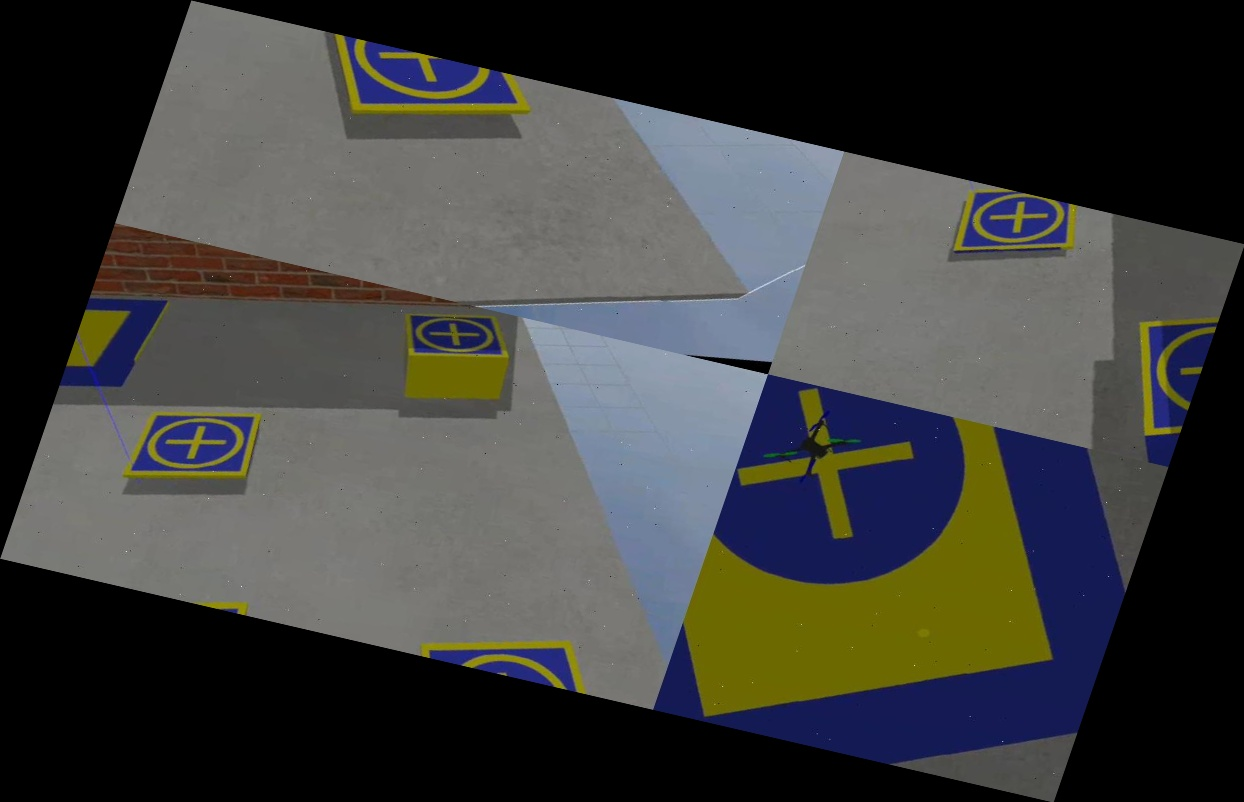large_base: (653, 374, 1167, 802), (53, 284, 188, 424)
small_base: (293, 30, 545, 160), (414, 603, 642, 702), (1098, 276, 1227, 446), (107, 389, 275, 504), (937, 178, 1089, 279), (390, 292, 525, 379)
